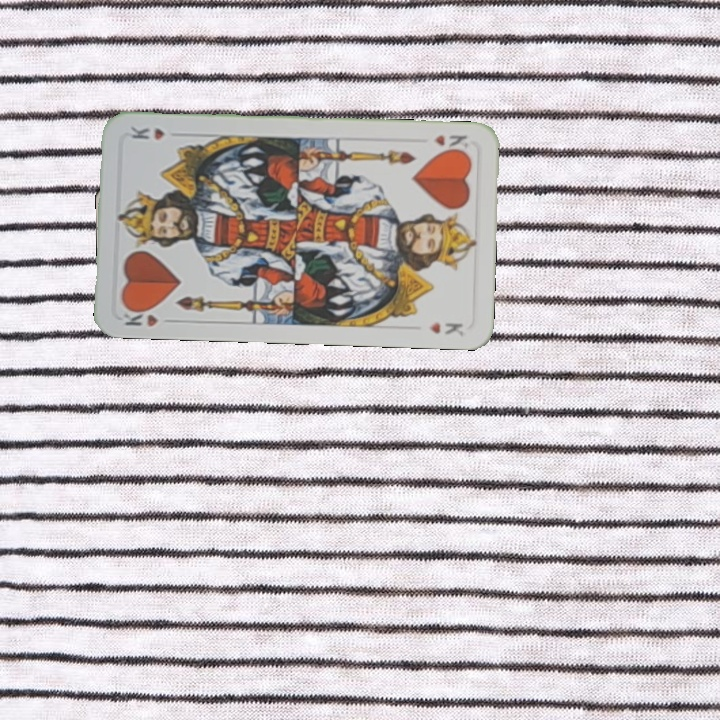HK: (119, 303, 177, 330), (430, 131, 470, 155)
